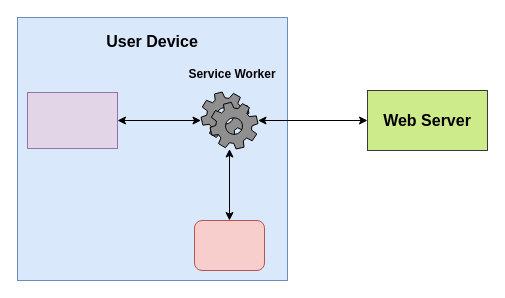
Image size: 505x298. Some labels were removed from this diagram. Each missing label, with the centre of its shape:
"App Shell" goes at point 72,120.
"Local Cache" goes at point 229,245.
